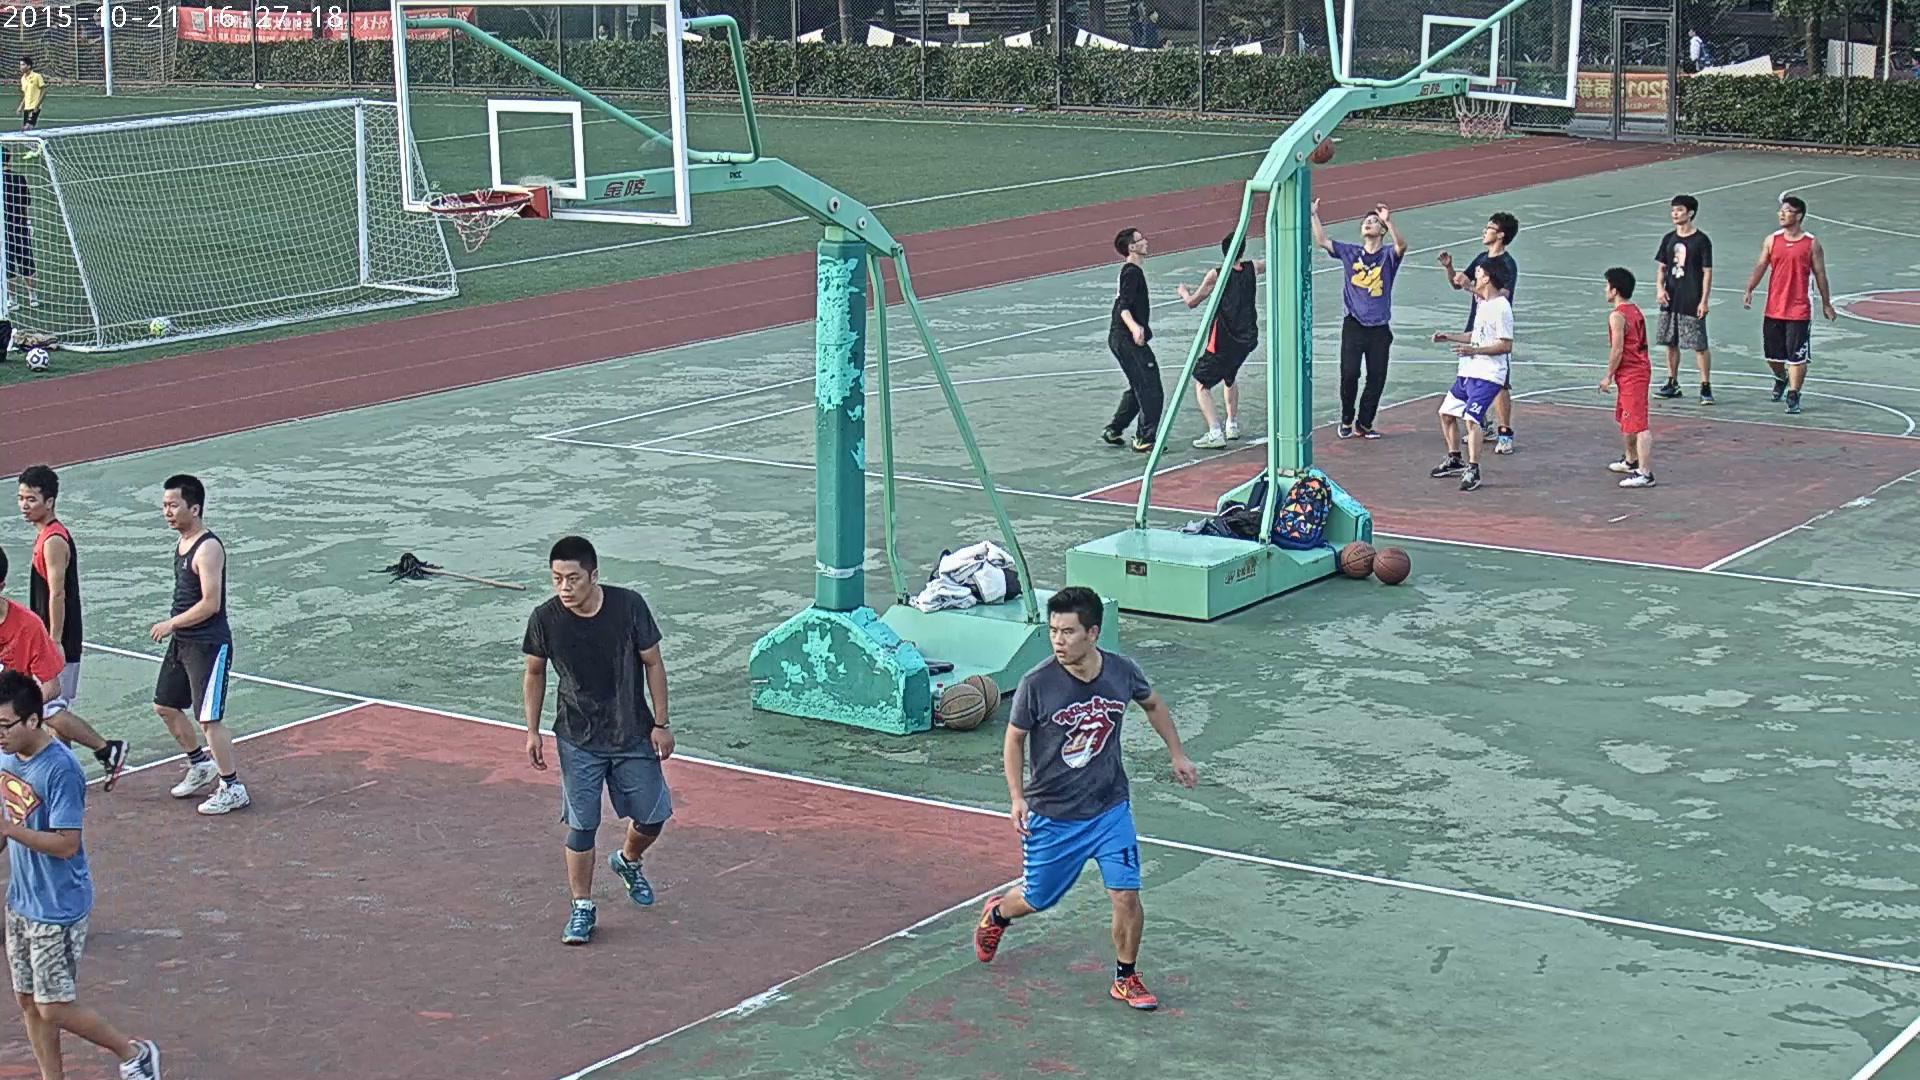face: (1049, 610, 1088, 663), (551, 558, 589, 607), (0, 701, 28, 754), (163, 486, 190, 530), (17, 483, 44, 521), (1779, 201, 1796, 227), (1361, 214, 1380, 237), (1133, 231, 1147, 254), (1482, 220, 1497, 243), (1672, 205, 1688, 223), (1474, 264, 1483, 293), (1606, 279, 1611, 302), (19, 60, 28, 72), (598, 25, 606, 34), (94, 12, 101, 22), (1687, 29, 1694, 35), (1152, 11, 1158, 20), (1911, 57, 1916, 65), (878, 8, 884, 15), (692, 2, 697, 6), (701, 1, 704, 6), (1301, 26, 1304, 32)
